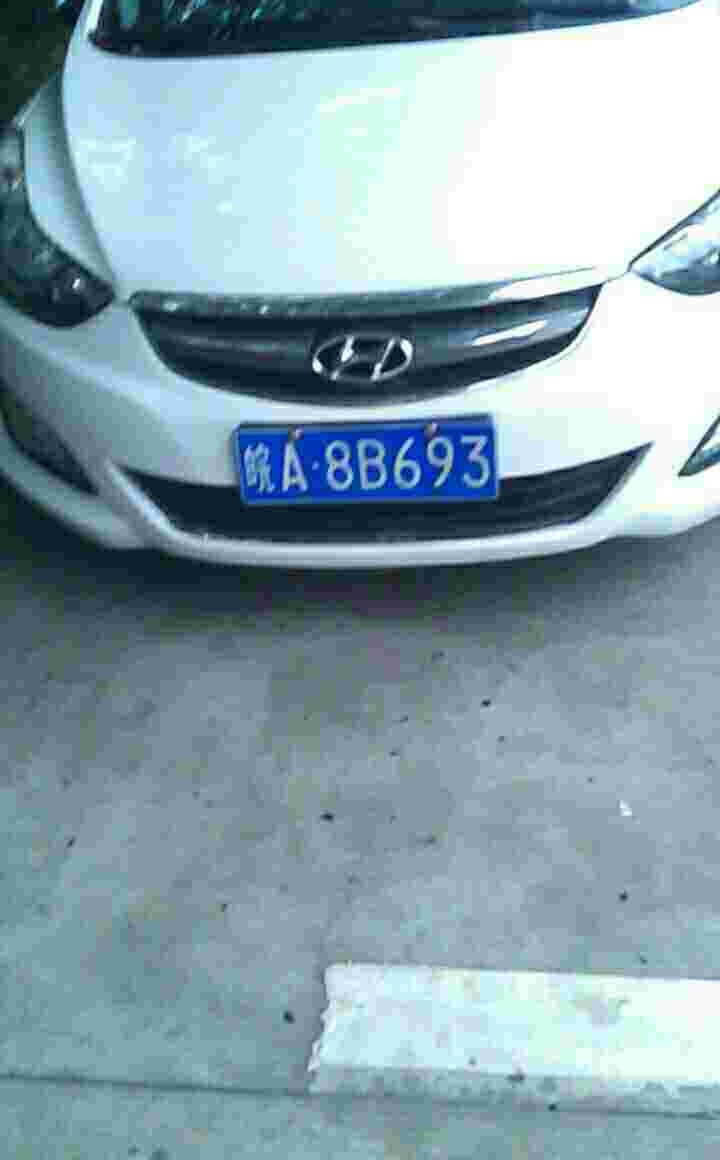license_plate: (232, 418, 509, 512)
